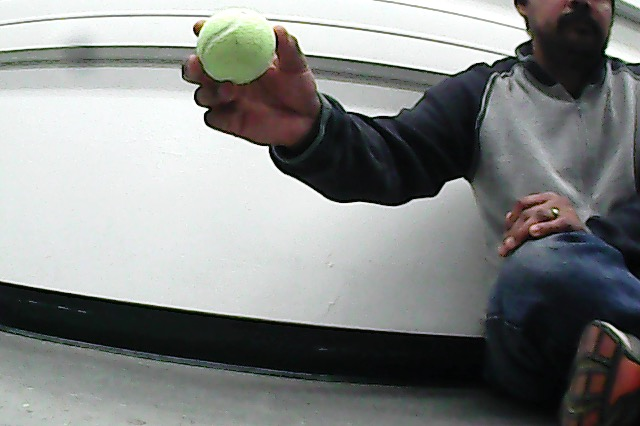ball: (195, 5, 279, 89)
